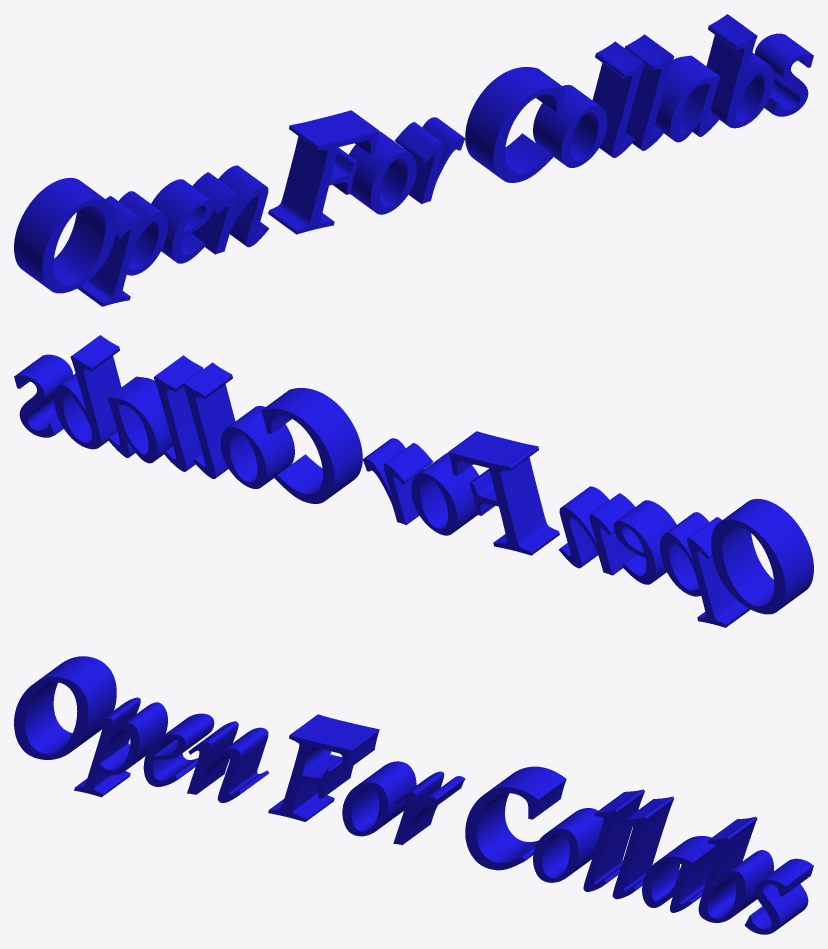
Rendered from collabs1.glb.
The picture shows the model from 3 angles, top to bottom: view 1: azimuth 30°, elevation 25°; view 2: azimuth 150°, elevation 25°; view 3: azimuth 330°, elevation 25°; orthographic projection.
Parts seen in each view (by area): view 1: Text; view 2: Text; view 3: Text.
Boxes of the visible parts, <box> form: Text: <box>14,14,813,306</box>; Text: <box>14,335,813,627</box>; Text: <box>14,656,813,934</box>.
Size of the model in its own units: 5.65 by 0.7891 by 0.36.
